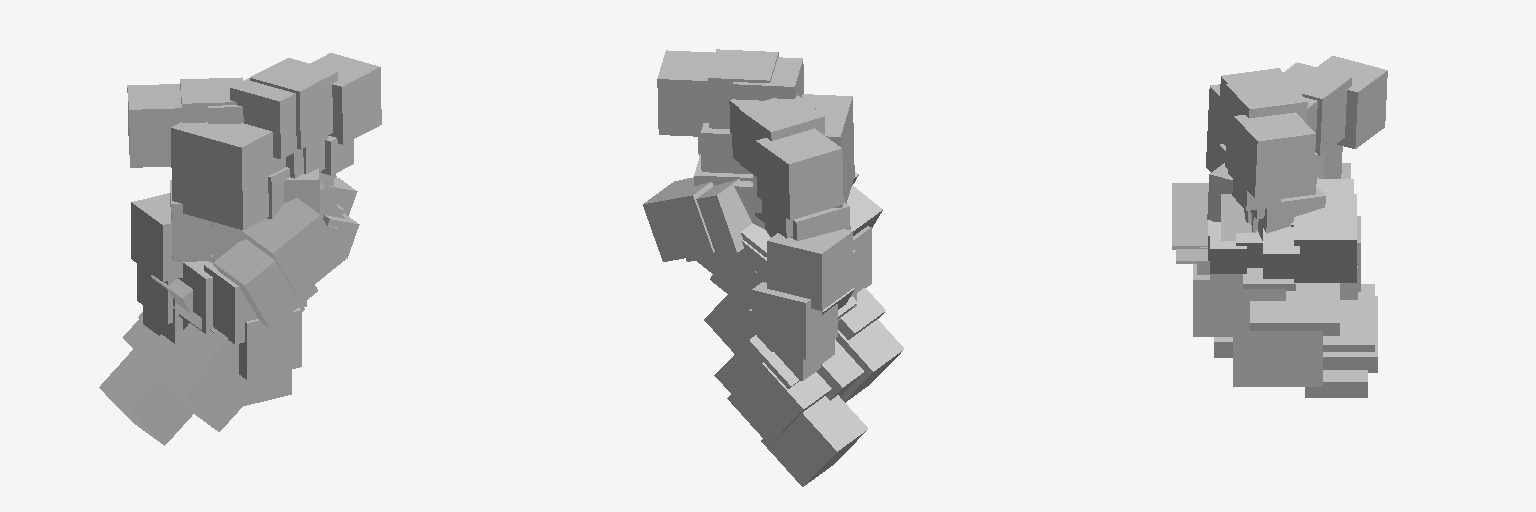
File: CRYSTAL2.obj
3 views of the same model, side by side, from view 1: azimuth 30°, elevation 25°; view 2: azimuth 150°, elevation 25°; view 3: azimuth 270°, elevation 25° (orthographic).
Parts seen in each view (by area): view 1: Cube.042_Cube.045, Cube.019_Cube.022, Cube.010_Cube.013, Cube.013_Cube.016, Cube.021_Cube.024, Cube.032_Cube.035, Cube.044_Cube.047, Cube.040_Cube.043, Cube.003_Cube.007, Cube.001_Cube.005, Cube.045_Cube.048, Cube.011_Cube.014 (+18 smaller); view 2: Cube.032_Cube.035, Cube.001_Cube.005, Cube.010_Cube.013, Cube.007_Cube.010, Cube.040_Cube.043, Cube.014_Cube.017, Cube.029_Cube.032, Cube.037_Cube.040, Cube.044_Cube.047, Cube.030_Cube.033, Cube.013_Cube.016, Cube.042_Cube.045 (+16 smaller); view 3: Cube.040_Cube.043, Cube.005_Cube.008, Cube.029_Cube.032, Cube.012_Cube.015, Cube.032_Cube.035, Cube.037_Cube.040, Cube.044_Cube.047, Cube.015_Cube.018, Cube.003_Cube.007, Cube.019_Cube.022, Cube.070_Cube.073, Cube.010_Cube.013 (+13 smaller).
Part boxes in pixels (x1,y1,x2,y2): Cube.042_Cube.045: (171, 122, 285, 229); Cube.019_Cube.022: (242, 198, 345, 296); Cube.010_Cube.013: (99, 349, 192, 445); Cube.013_Cube.016: (154, 344, 260, 431); Cube.021_Cube.024: (214, 239, 317, 329); Cube.032_Cube.035: (127, 84, 181, 167); Cube.044_Cube.047: (250, 58, 337, 149); Cube.040_Cube.043: (310, 53, 381, 144); Cube.003_Cube.007: (239, 308, 301, 379); Cube.001_Cube.005: (131, 193, 182, 281); Cube.045_Cube.048: (230, 68, 296, 158); Cube.011_Cube.014: (176, 323, 259, 396); Cube.032_Cube.035: (756, 128, 843, 219); Cube.001_Cube.005: (767, 229, 852, 310); Cube.010_Cube.013: (761, 395, 867, 486); Cube.007_Cube.010: (752, 282, 837, 359); Cube.040_Cube.043: (657, 50, 714, 136); Cube.014_Cube.017: (727, 362, 831, 444); Cube.029_Cube.032: (643, 178, 714, 261); Cube.037_Cube.040: (738, 96, 824, 176); Cube.044_Cube.047: (708, 49, 778, 128); Cube.030_Cube.033: (686, 179, 751, 261); Cube.013_Cube.016: (836, 319, 903, 402); Cube.042_Cube.045: (753, 94, 854, 212); Cube.040_Cube.043: (1231, 112, 1315, 197); Cube.005_Cube.008: (1233, 322, 1322, 386); Cube.029_Cube.032: (1294, 194, 1356, 282); Cube.012_Cube.015: (1250, 283, 1339, 335); Cube.032_Cube.035: (1317, 56, 1387, 148); Cube.037_Cube.040: (1283, 62, 1351, 155); Cube.044_Cube.047: (1223, 76, 1307, 149); Cube.015_Cube.018: (1323, 284, 1374, 351); Cube.003_Cube.007: (1193, 264, 1232, 336); Cube.019_Cube.022: (1172, 183, 1208, 249); Cube.070_Cube.073: (1263, 226, 1299, 278); Cube.010_Cube.013: (1305, 370, 1367, 397).
Size of the model in its own units: 11.64 by 17.68 by 9.6.